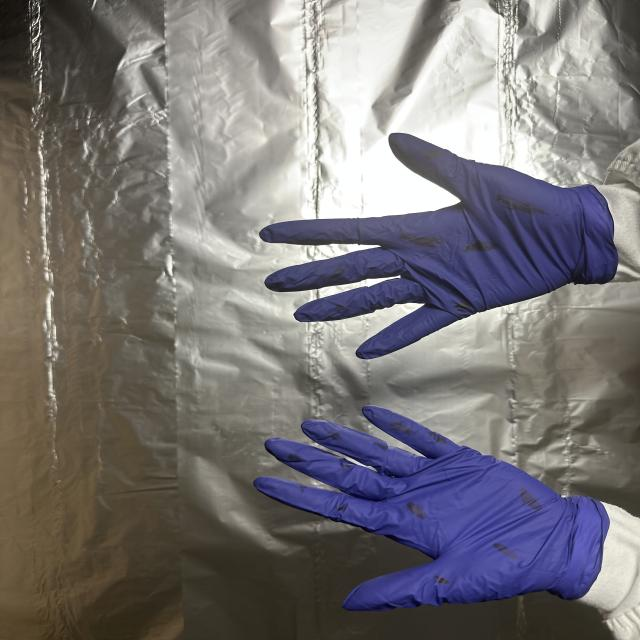gloves_contaminated: (261, 134, 618, 358), (255, 406, 610, 610)
